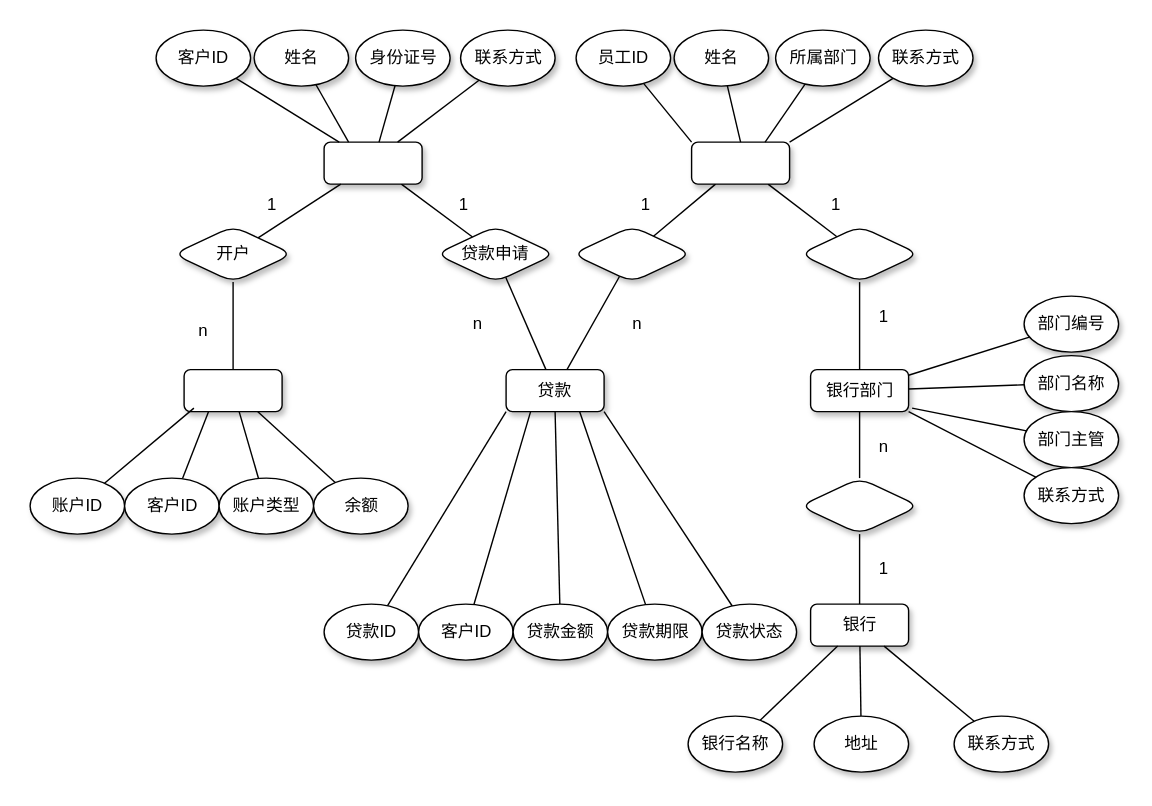
This 1152x806 diagram has some shape labels left out. The centre of each missing label's shape, as x and y in pixels:
员工: point 741,164
客户: point 373,164
工作于: point 860,255
账户: point 233,392
贷款审批: point 633,255
隶属于: point 860,507
